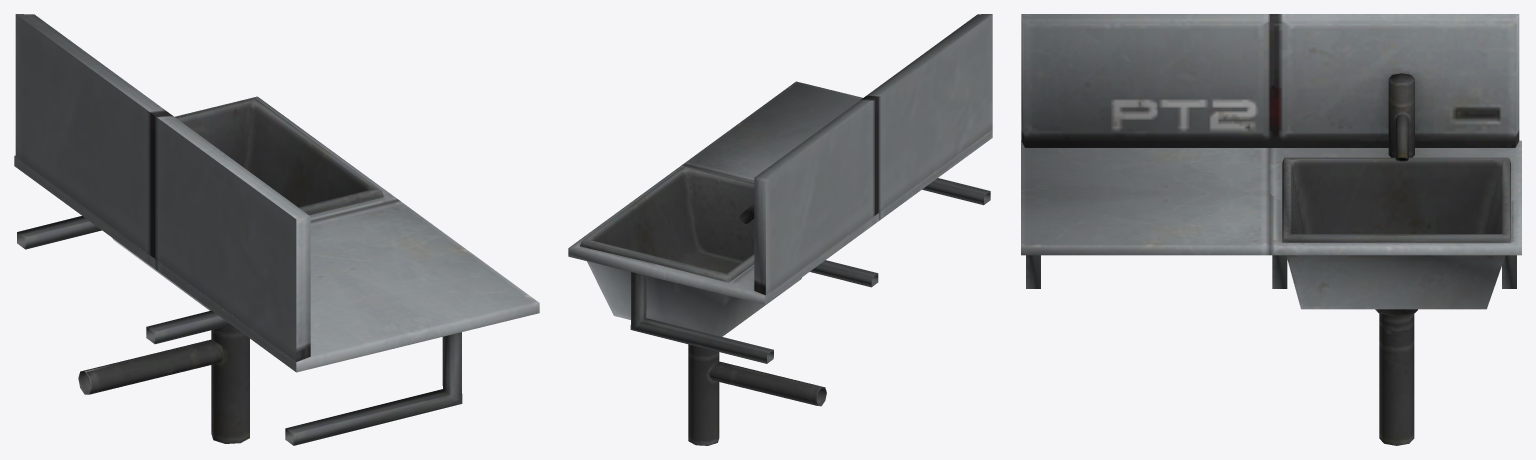
Rendered from Sink01.FBX.
3 views of the same model, side by side, from view 1: azimuth 30°, elevation 25°; view 2: azimuth 150°, elevation 25°; view 3: azimuth 270°, elevation 25° (orthographic). The views are drawn at different scales.
Parts seen in each view (by area): view 1: Sink01; view 2: Sink01; view 3: Sink01.
Boxes of the visible parts, box(x1,y1,x2,y2) form: Sink01: box(14, 14, 539, 445); Sink01: box(568, 14, 992, 445); Sink01: box(1021, 14, 1521, 445).
Size of the model in its own units: 0.8 by 1.28 by 1.61.
